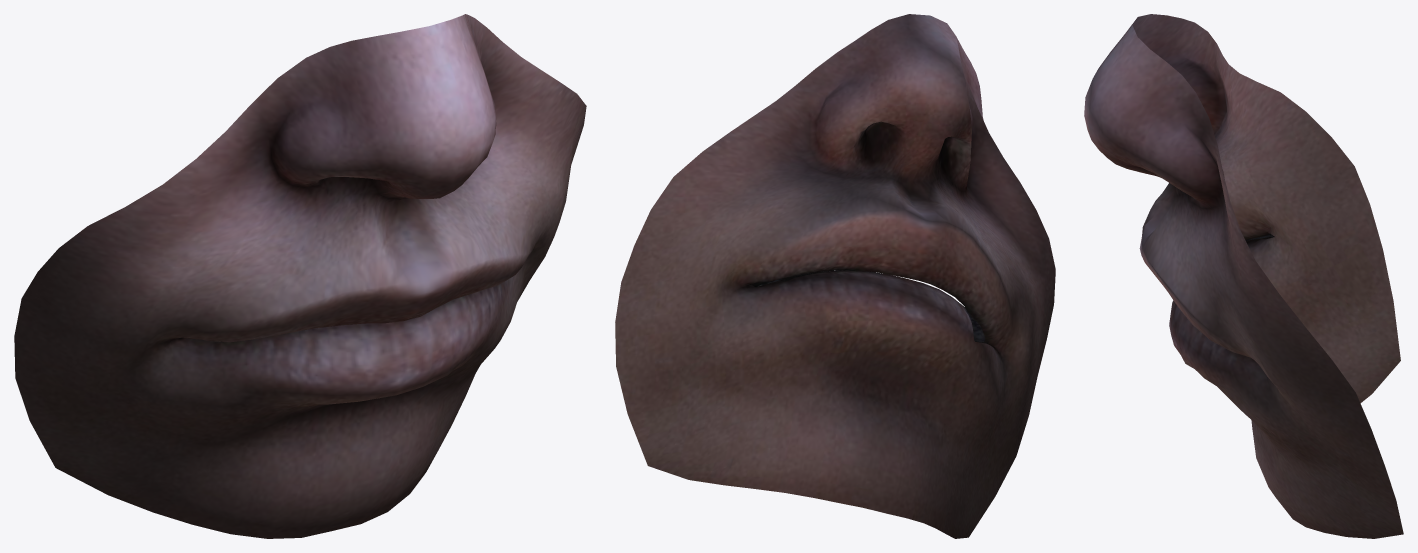
File: mouth.glb
3 renders of one model, left to right at view 1: azimuth 30°, elevation 25°; view 2: azimuth 150°, elevation 25°; view 3: azimuth 270°, elevation 25°, orthographic. The views are drawn at different scales.
Parts seen in each view (by area): view 1: object_mouth; view 2: object_mouth; view 3: object_mouth.
Part boxes in pixels (x1,y1,x2,y2): object_mouth: (14,14,586,538); object_mouth: (615,14,1055,538); object_mouth: (1084,14,1403,538).
Size of the model in its own units: 1.91 by 1.93 by 1.18.
Materials: 1 (1 with a texture image).
